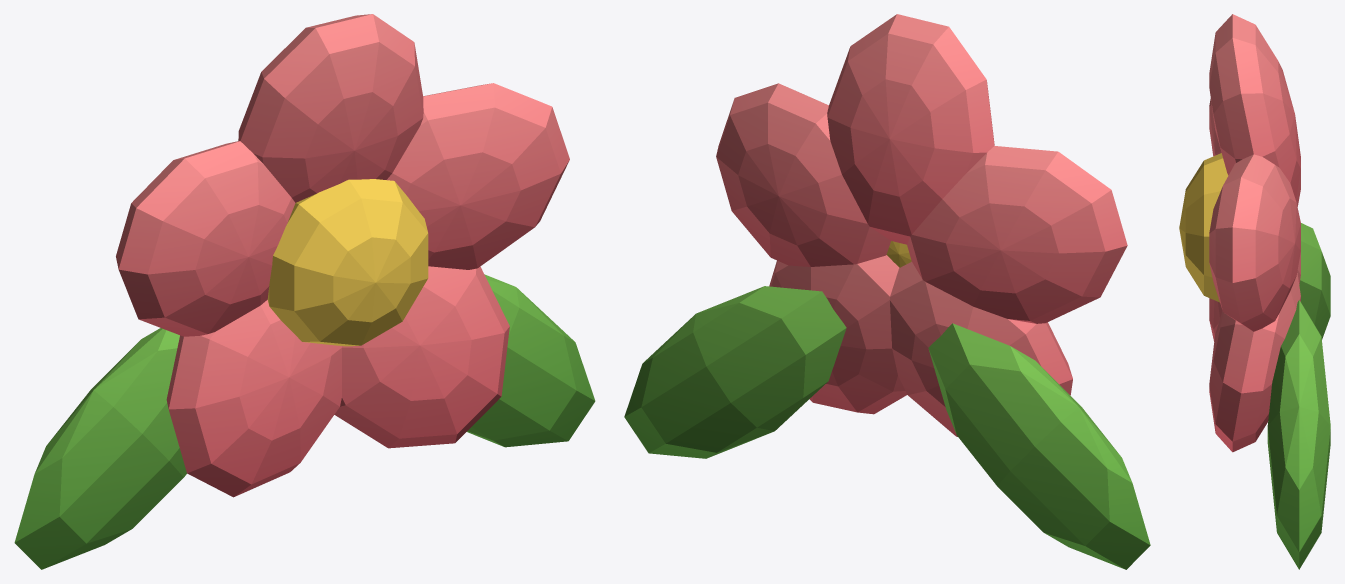
File: flower.glb
The picture shows the model from 3 angles, left to right: view 1: azimuth 30°, elevation 25°; view 2: azimuth 150°, elevation 25°; view 3: azimuth 270°, elevation 25°; orthographic projection. The views are drawn at different scales.
Visible parts, largest first — view 1: flower_clip; view 2: flower_clip; view 3: flower_clip.
Boxes of the visible parts, bbox=[...] form: flower_clip: bbox=[14, 14, 595, 569]; flower_clip: bbox=[624, 14, 1150, 569]; flower_clip: bbox=[1179, 14, 1330, 569].
Size of the model in its own units: 0.4502 by 0.3802 by 0.12.
1 material, 1 textured.
